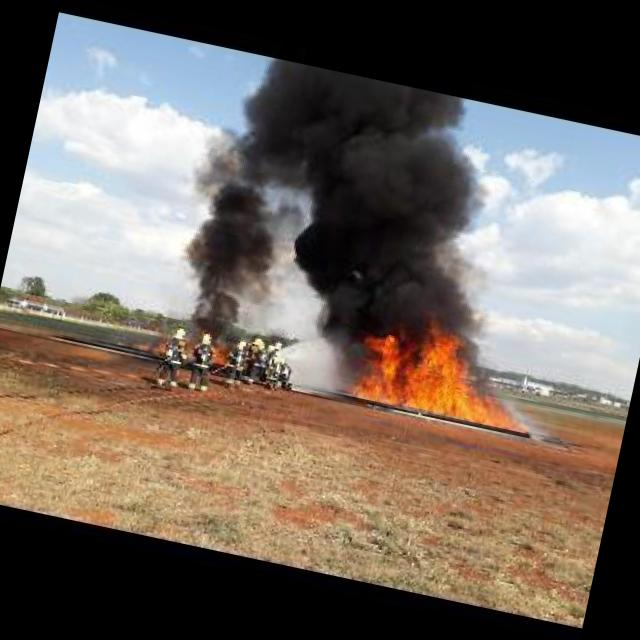fire: (352, 306, 538, 430), (134, 333, 166, 354), (212, 344, 230, 365)
smoke: (234, 60, 558, 356), (172, 138, 282, 330)
